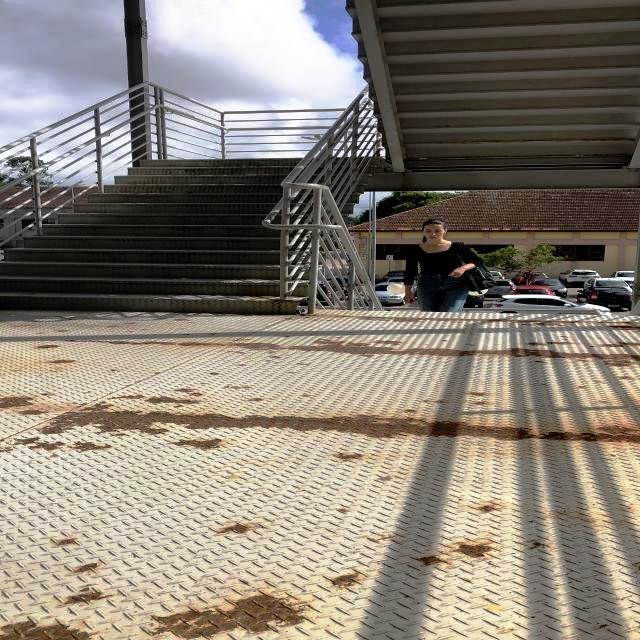Corrosion: (35, 400, 640, 445), (227, 338, 640, 367), (143, 591, 314, 640), (0, 616, 98, 640), (356, 316, 582, 326), (449, 542, 492, 560), (12, 437, 65, 451), (64, 591, 114, 605), (167, 438, 223, 450), (328, 572, 363, 590), (62, 340, 177, 345), (413, 554, 451, 567), (0, 396, 36, 409), (144, 396, 201, 404), (71, 441, 112, 451), (216, 524, 253, 534), (73, 562, 103, 574), (525, 539, 550, 550), (333, 453, 363, 461), (525, 342, 575, 346), (177, 342, 225, 346), (108, 394, 145, 399), (605, 325, 640, 330), (17, 410, 51, 415), (374, 340, 402, 346), (55, 538, 76, 546), (477, 505, 496, 513), (591, 321, 640, 324), (49, 359, 76, 364), (472, 140, 516, 143), (36, 344, 61, 349), (596, 137, 626, 141), (173, 388, 197, 393), (377, 534, 395, 540), (599, 344, 625, 348), (617, 342, 640, 346), (463, 392, 485, 396), (227, 350, 247, 354), (0, 447, 14, 452), (231, 386, 253, 389), (366, 537, 379, 542), (188, 392, 204, 396), (109, 433, 130, 436), (598, 624, 610, 629), (271, 299, 299, 301), (620, 376, 634, 380), (404, 409, 418, 413), (80, 587, 90, 592), (634, 565, 640, 573), (247, 398, 263, 401), (587, 518, 596, 523), (174, 318, 189, 321), (334, 315, 355, 317), (575, 359, 589, 362), (106, 325, 120, 328), (339, 509, 349, 513), (284, 318, 297, 321), (473, 402, 486, 405), (233, 339, 251, 341), (556, 512, 565, 516), (42, 393, 53, 396), (248, 296, 264, 298), (464, 579, 472, 583), (395, 533, 403, 537), (14, 325, 30, 327), (434, 400, 444, 403), (297, 300, 301, 307), (533, 361, 547, 363), (56, 330, 70, 332), (242, 580, 249, 584), (599, 400, 608, 403), (519, 543, 528, 546), (390, 539, 399, 542), (79, 403, 88, 406), (125, 322, 138, 324), (296, 363, 309, 365), (578, 513, 586, 516), (238, 363, 246, 366), (268, 351, 276, 354), (464, 344, 475, 346), (270, 356, 281, 358), (173, 405, 184, 407), (633, 562, 640, 565), (483, 598, 490, 601), (212, 372, 219, 375), (208, 333, 218, 335), (49, 455, 59, 457), (0, 438, 5, 442), (86, 584, 96, 586), (200, 383, 209, 385), (302, 394, 311, 396), (588, 310, 596, 312), (560, 336, 568, 338), (578, 386, 586, 388), (571, 516, 579, 518), (265, 360, 273, 362), (625, 508, 632, 510), (75, 406, 82, 408), (128, 331, 135, 333), (423, 400, 429, 402), (510, 628, 514, 631), (155, 372, 161, 374), (68, 319, 80, 320), (223, 386, 229, 388), (362, 536, 367, 538), (72, 402, 77, 404), (282, 336, 291, 337), (313, 319, 317, 321), (605, 459, 613, 460), (569, 516, 573, 518), (606, 629, 610, 631), (381, 535, 385, 537), (86, 391, 90, 393), (109, 393, 113, 395), (36, 333, 44, 334), (287, 372, 295, 373), (226, 385, 230, 387), (336, 337, 343, 338), (595, 381, 602, 382), (55, 316, 62, 317), (30, 327, 37, 328), (184, 334, 191, 335), (274, 298, 280, 299), (326, 320, 332, 321), (442, 340, 448, 341), (589, 346, 595, 347), (125, 385, 131, 386), (135, 381, 141, 382), (188, 322, 194, 323), (563, 339, 568, 340), (51, 340, 56, 341), (264, 326, 269, 327), (288, 294, 290, 296), (350, 332, 354, 333), (542, 384, 546, 385), (143, 329, 147, 330), (170, 322, 174, 323), (523, 330, 526, 331), (93, 400, 96, 401), (188, 320, 191, 321), (208, 318, 211, 319), (310, 334, 312, 335)
